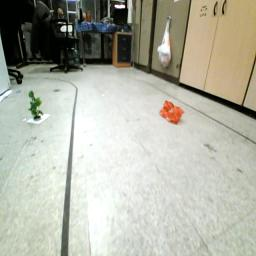herb: (28, 91, 47, 121)
wild: (162, 100, 187, 124)
